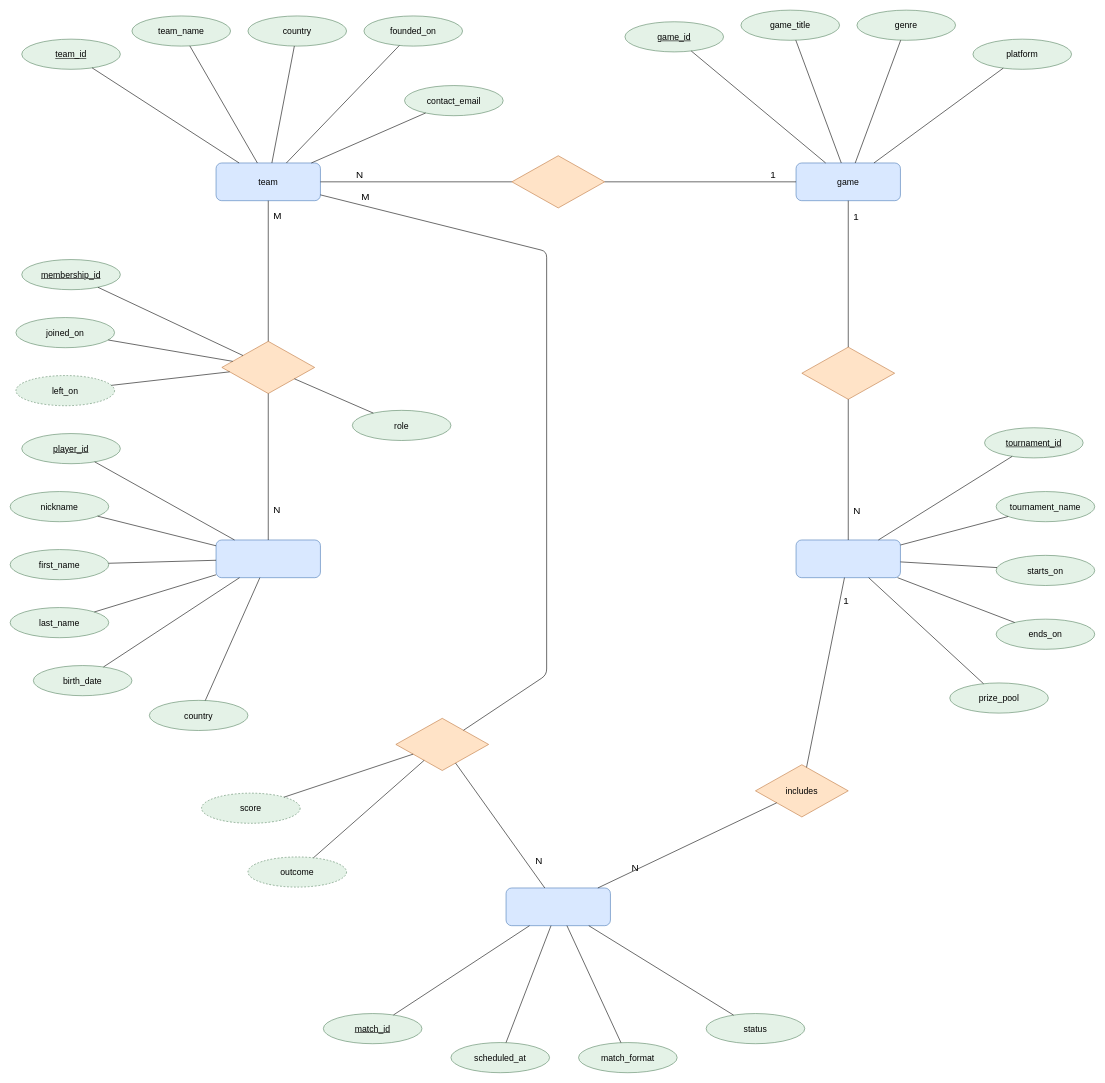
Image size: 1105x1083. Some labels were removed from this diagram. Each missing label, with the box of its shape:
features: (801, 347, 895, 399)
game_match: (505, 887, 610, 926)
membership: (221, 341, 315, 394)
player: (215, 539, 320, 578)
plays: (395, 718, 489, 771)
specializes_in: (511, 155, 605, 208)
tournament: (795, 539, 900, 578)
